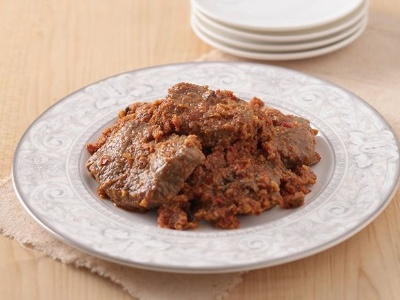rendang: (101, 89, 308, 211)
